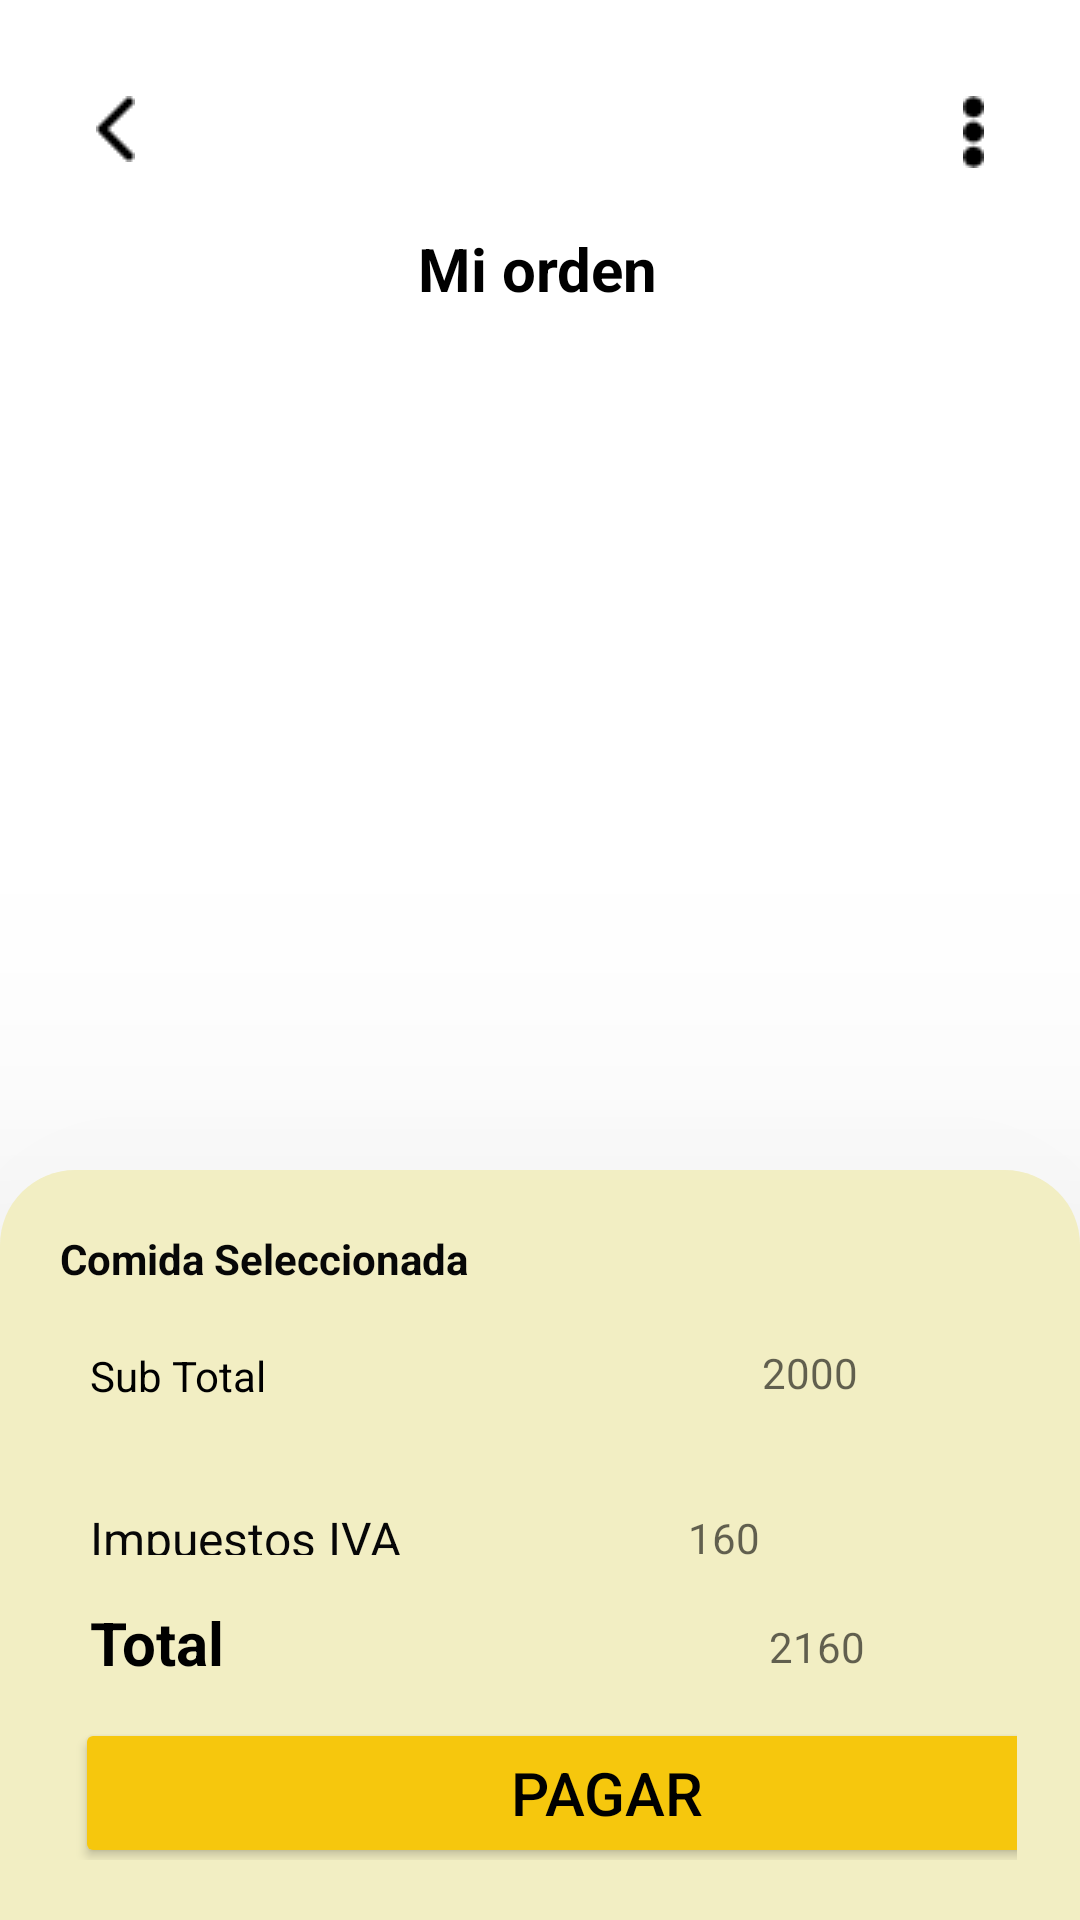

Named icons in this screenshot (1080 x 1920) and their centers, (x,y):
regre: (115,129)
